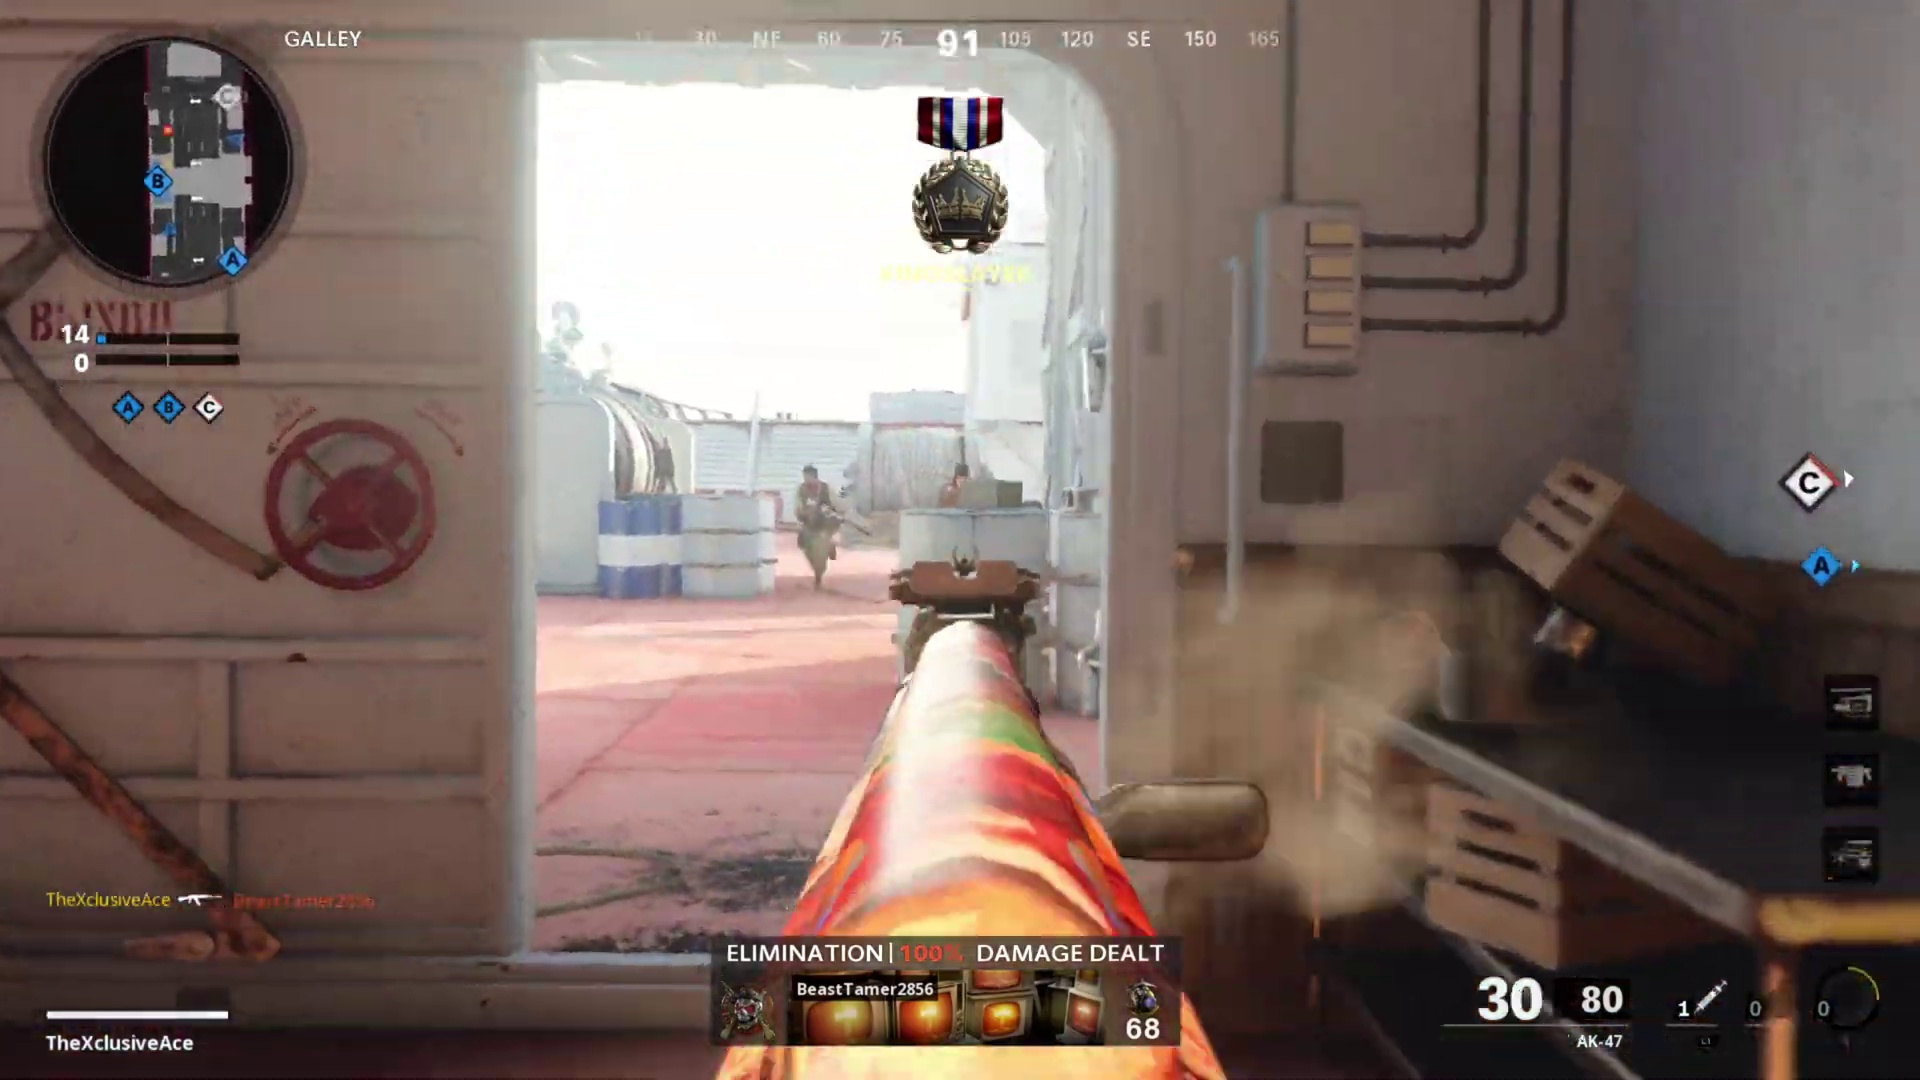head: (936, 461, 971, 506), (797, 462, 824, 497), (948, 458, 972, 495)
person: (792, 461, 855, 590)
